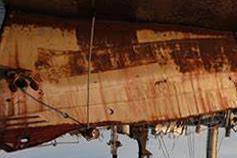rust: (4, 2, 236, 33), (78, 35, 163, 65), (172, 34, 235, 74), (1, 124, 80, 148), (134, 122, 153, 158)
